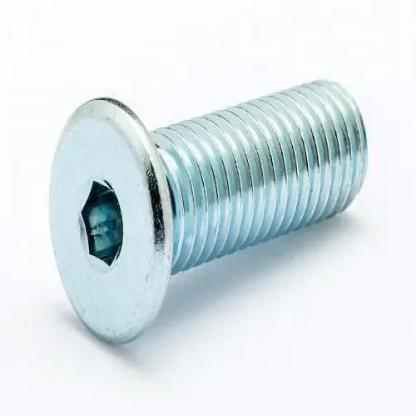FOD: (27, 52, 386, 354)
